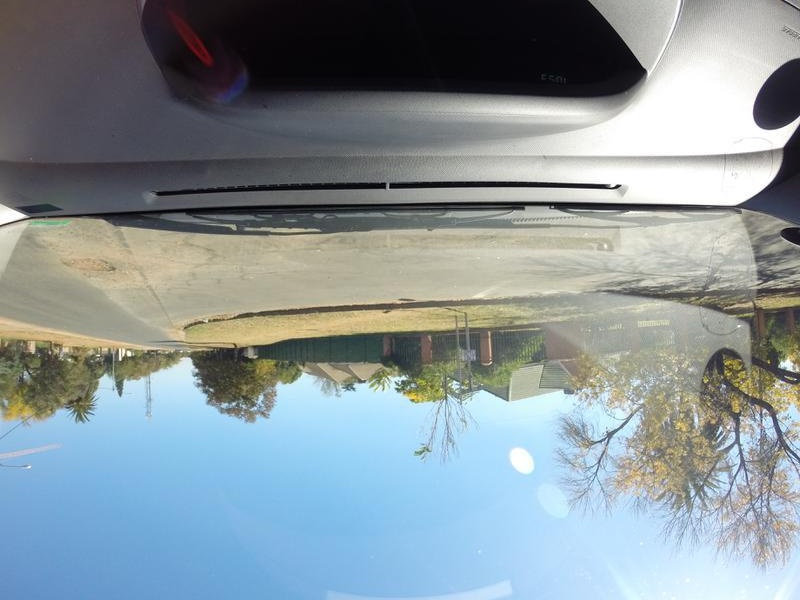pothole: (47, 253, 118, 285)
